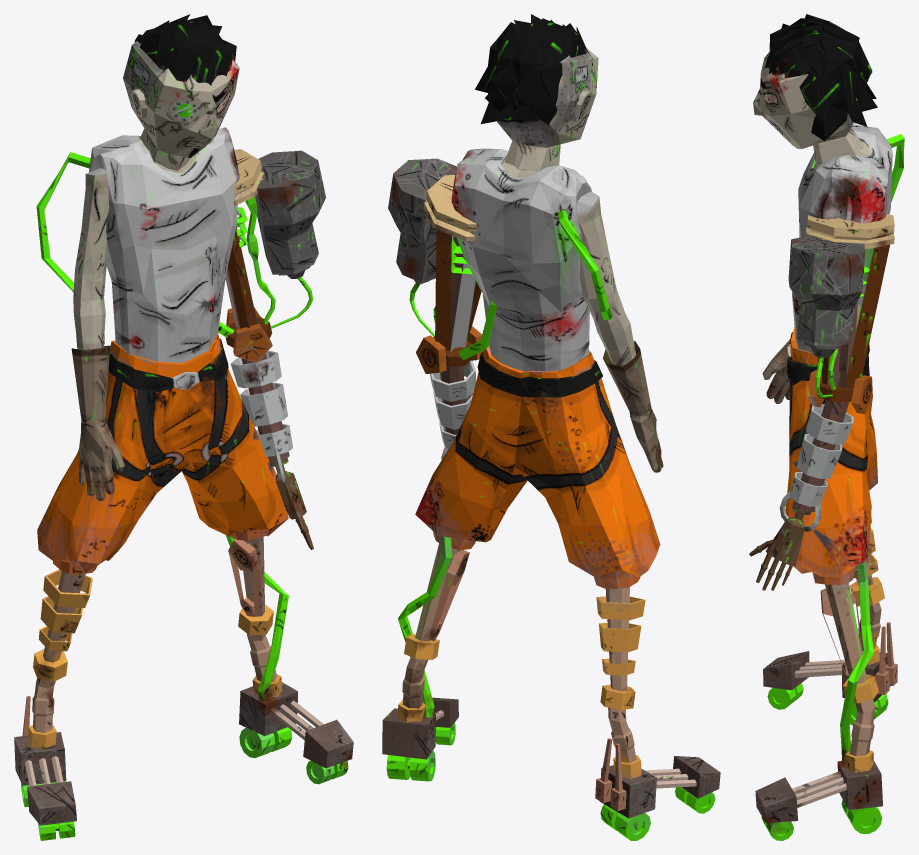
File: CyborgFINALAnimation_000035.obj
3 views of the same model, side by side, from view 1: azimuth 30°, elevation 25°; view 2: azimuth 150°, elevation 25°; view 3: azimuth 270°, elevation 25° (orthographic). The views are drawn at different scales.
Visible parts, largest first — view 1: CyborgMesh_Cube.002; view 2: CyborgMesh_Cube.002; view 3: CyborgMesh_Cube.002.
Part boxes in pixels (bbox=[...]): CyborgMesh_Cube.002: bbox=[14, 14, 353, 840]; CyborgMesh_Cube.002: bbox=[382, 14, 720, 840]; CyborgMesh_Cube.002: bbox=[749, 14, 904, 840].
Size of the model in its own units: 3.99 by 9.62 by 1.8.
